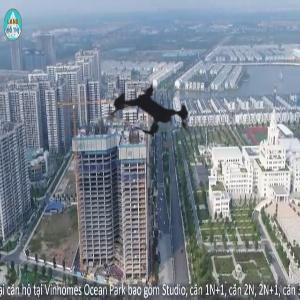drone: (89, 47, 222, 180)
